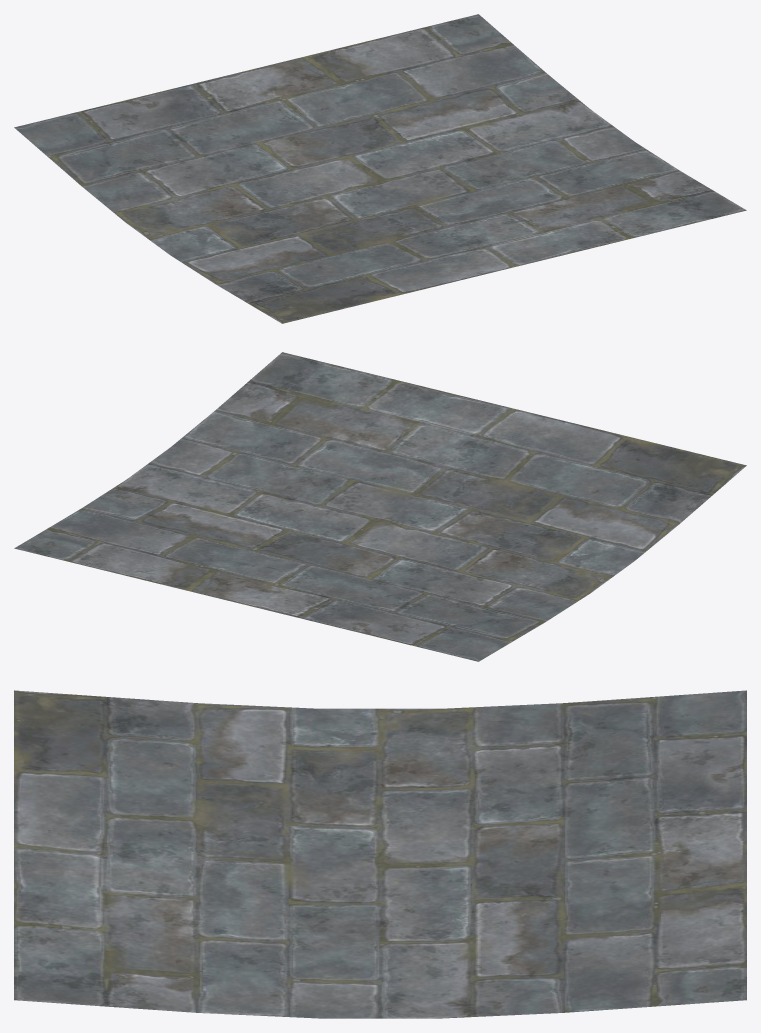
File: SM_Crypt_Floor_Concave.glb
3 renders of one model, top to bottom at view 1: azimuth 30°, elevation 25°; view 2: azimuth 150°, elevation 25°; view 3: azimuth 270°, elevation 25°, orthographic. The views are drawn at different scales.
Visible parts, largest first — view 1: SM_Crypt_Floor_Concave; view 2: SM_Crypt_Floor_Concave; view 3: SM_Crypt_Floor_Concave.
Boxes of the visible parts, x1,y1,x2,y2 form: SM_Crypt_Floor_Concave: [14, 14, 746, 323]; SM_Crypt_Floor_Concave: [14, 352, 746, 661]; SM_Crypt_Floor_Concave: [14, 690, 746, 1018].
Size of the model in its own units: 5 by 0.1378 by 5.
1 material, 1 textured.
